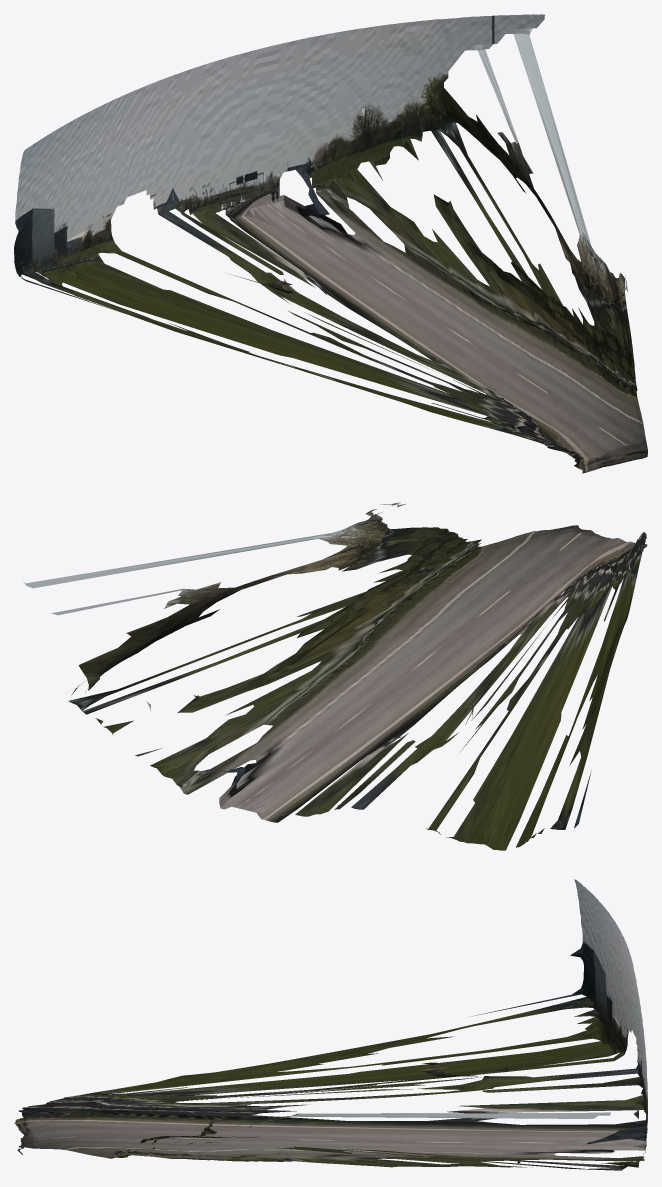
The picture shows the model from 3 angles, top to bottom: view 1: azimuth 30°, elevation 25°; view 2: azimuth 150°, elevation 25°; view 3: azimuth 270°, elevation 25°; orthographic projection. The views are drawn at different scales.
Visible parts, largest first — view 1: defaultobject; view 2: defaultobject; view 3: defaultobject.
Boxes of the visible parts, x1,y1,x2,y2 form: defaultobject: (14, 14, 647, 473); defaultobject: (24, 502, 647, 850); defaultobject: (14, 879, 647, 1170).
Size of the model in its own units: 38.66 by 11.75 by 44.61.
Materials: 1 (1 with a texture image).
